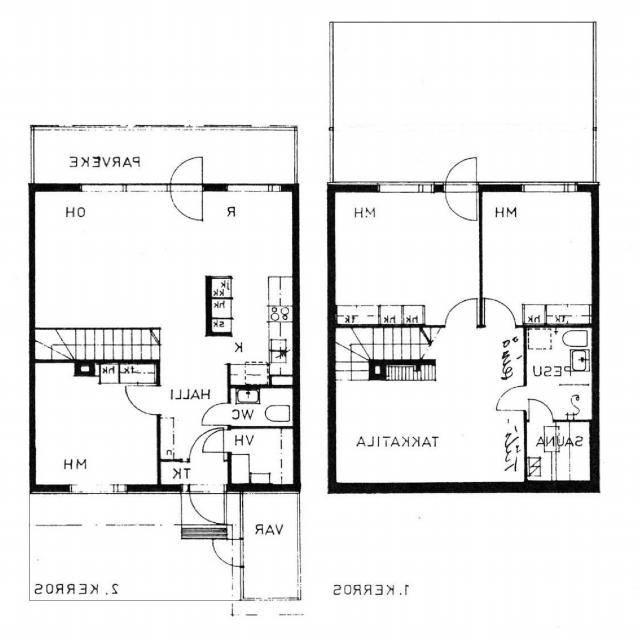door: (190, 485, 224, 526), (170, 152, 202, 191), (170, 182, 202, 221), (189, 426, 224, 461), (446, 182, 476, 221), (446, 154, 476, 192), (485, 295, 516, 328), (446, 294, 476, 328), (126, 386, 161, 415), (212, 540, 243, 566), (498, 386, 527, 410), (204, 402, 232, 424), (529, 397, 553, 422), (204, 430, 231, 452)
